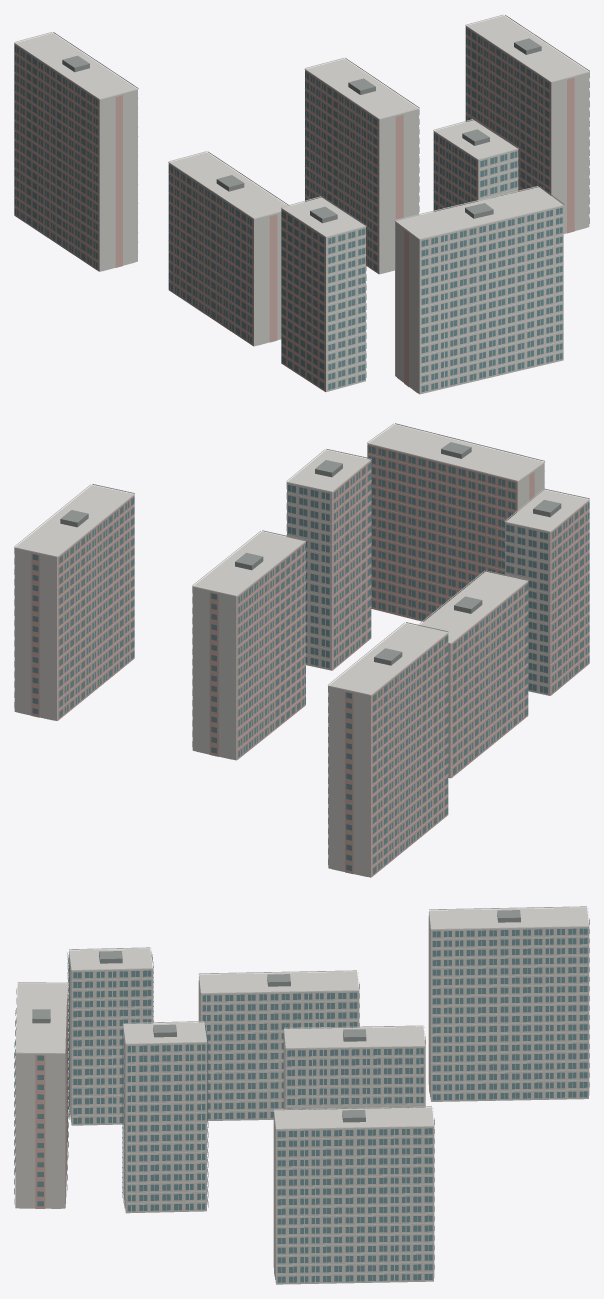
The model's file is representative-a13676702.glb.
3 views of the same model, one above another, from view 1: azimuth 30°, elevation 25°; view 2: azimuth 150°, elevation 25°; view 3: azimuth 270°, elevation 25° (orthographic). The views are drawn at different scales.
Visible parts, largest first — view 1: A13676702_wall001, A13676702_glass001, A13676702_accent001, A13676702_trim001, A13676702_roof001; view 2: A13676702_accent001, A13676702_glass001, A13676702_wall001, A13676702_trim001, A13676702_roof001; view 3: A13676702_wall001, A13676702_glass001, A13676702_trim001, A13676702_accent001, A13676702_roof001.
Boxes of the visible parts, x1,y1,x2,y2 form: A13676702_wall001: (15, 15, 589, 394); A13676702_glass001: (14, 28, 589, 392); A13676702_accent001: (14, 27, 574, 391); A13676702_trim001: (14, 14, 589, 391); A13676702_roof001: (62, 38, 541, 223); A13676702_accent001: (31, 444, 589, 877); A13676702_glass001: (14, 446, 589, 874); A13676702_wall001: (14, 424, 588, 877); A13676702_trim001: (14, 423, 589, 868); A13676702_roof001: (60, 442, 561, 665); A13676702_wall001: (15, 907, 589, 1284); A13676702_glass001: (14, 919, 589, 1282); A13676702_trim001: (14, 906, 589, 1282); A13676702_accent001: (35, 919, 589, 1275); A13676702_roof001: (32, 910, 520, 1122).
Bounding box in the file's own units: 128 × 51.3 × 151.
